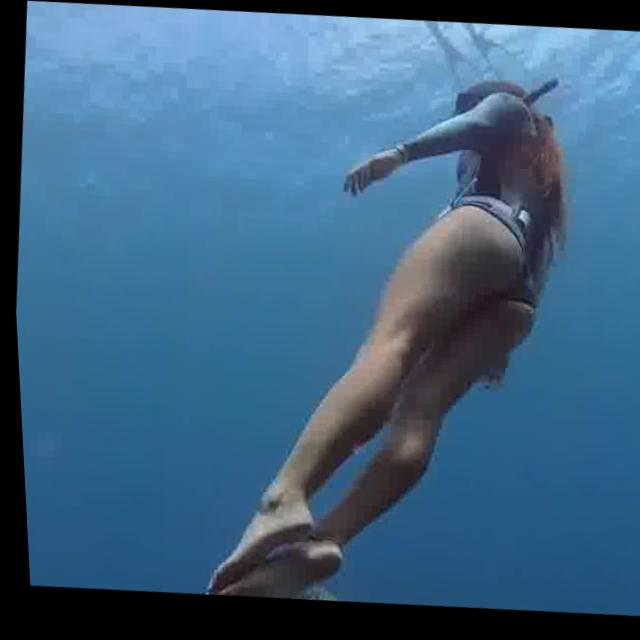human: (170, 49, 598, 626)
